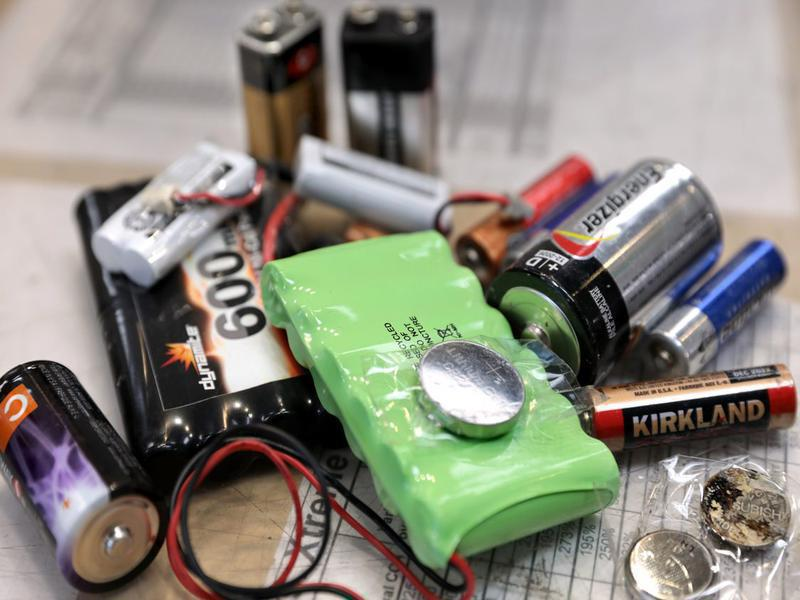battery: (479, 157, 727, 385), (1, 358, 168, 600), (645, 235, 793, 378), (576, 361, 799, 450)
